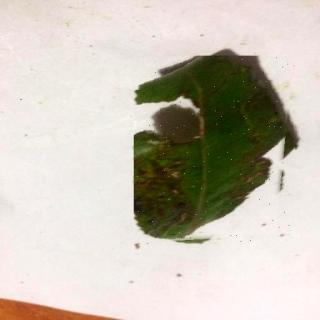Red Leaf Spot: (136, 57, 298, 248)
